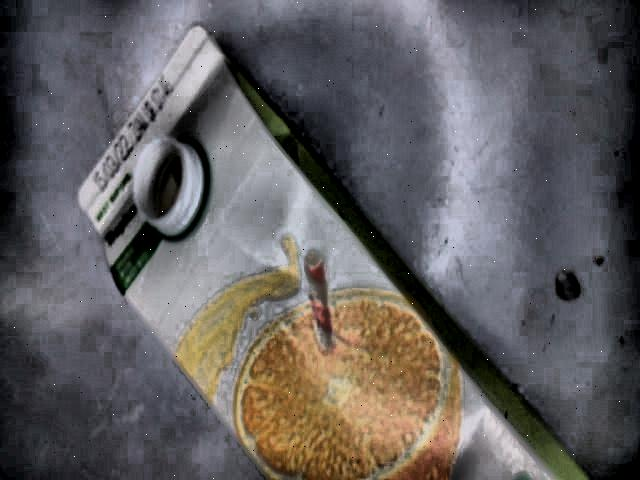Paper: (78, 25, 595, 480)
